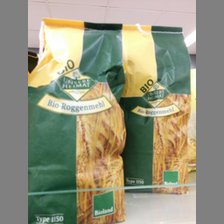flour: (28, 18, 126, 223), (119, 26, 192, 195)
